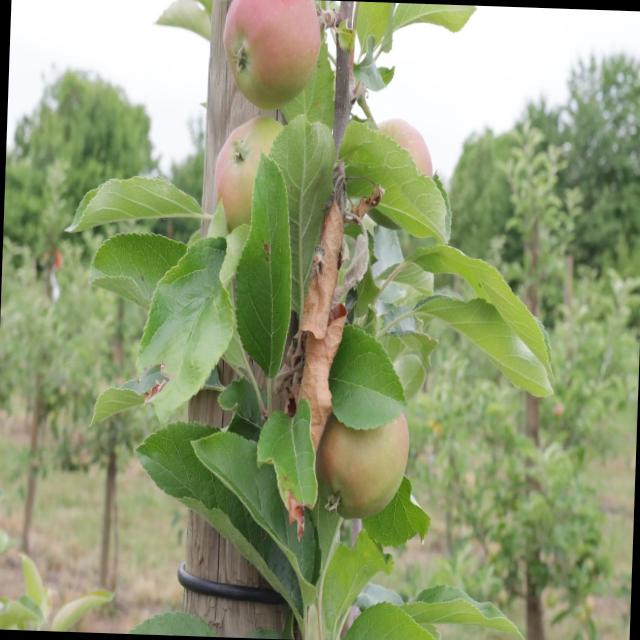-FireBlight-: (278, 301, 341, 444), (301, 178, 353, 332)
